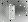person: (7, 5, 15, 20)
